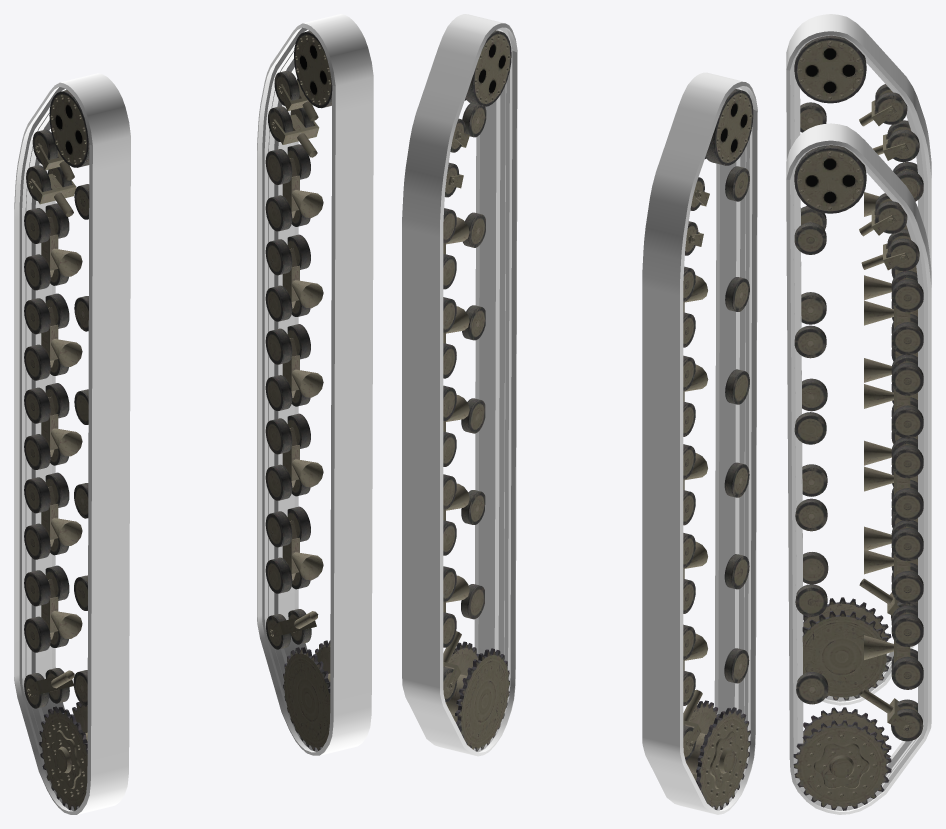
File: Chassis.glb
The picture shows the model from 3 angles, left to right: view 1: azimuth 30°, elevation 25°; view 2: azimuth 150°, elevation 25°; view 3: azimuth 270°, elevation 25°; orthographic projection. The views are drawn at different scales.
Visible parts, largest first — view 1: set_9_group_0, set_7_group_0, set_5_group_0, set_2_group_0, set_4_group_0, set_1_group_0, set_8_group_0, set_6_group_0; view 2: set_7_group_0, set_9_group_0, set_5_group_0, set_2_group_0, set_6_group_0, set_8_group_0, set_1_group_0, set_4_group_0; view 3: set_2_group_0, set_5_group_0, set_7_group_0, set_9_group_0, set_1_group_0, set_6_group_0, set_4_group_0.
Part boxes in pixels (box(x1,y1,x2,y2)): set_9_group_0: box(14, 73, 130, 814); set_7_group_0: box(257, 14, 373, 755); set_5_group_0: box(24, 90, 89, 810); set_2_group_0: box(265, 31, 332, 750); set_4_group_0: box(24, 173, 76, 708); set_1_group_0: box(265, 114, 319, 649); set_8_group_0: box(88, 323, 130, 410); set_6_group_0: box(331, 264, 373, 350); set_7_group_0: box(402, 14, 517, 756); set_9_group_0: box(642, 72, 757, 814); set_5_group_0: box(683, 89, 753, 809); set_2_group_0: box(443, 30, 511, 751); set_6_group_0: box(475, 233, 516, 315); set_8_group_0: box(716, 286, 757, 373); set_1_group_0: box(443, 174, 463, 702); set_4_group_0: box(683, 232, 703, 760); set_2_group_0: box(793, 145, 923, 810); set_5_group_0: box(794, 35, 923, 700); set_7_group_0: box(786, 123, 931, 814); set_9_group_0: box(786, 14, 931, 705); set_1_group_0: box(861, 243, 923, 741); set_6_group_0: box(787, 348, 801, 424); set_4_group_0: box(872, 134, 917, 620).
Bounding box in the file's own units: 2.29 × 5.63 × 1.1.
10 materials, 6 textured.
